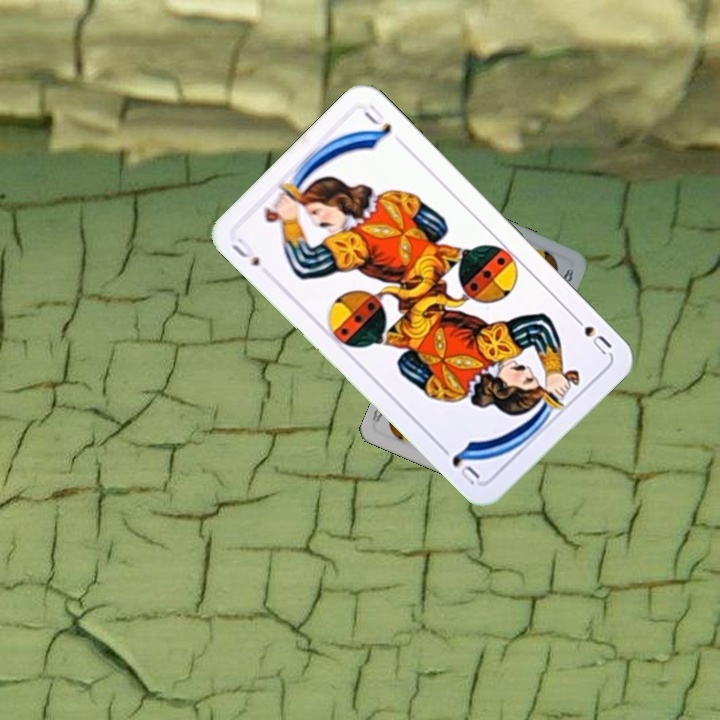SU: (567, 310, 615, 358), (227, 233, 263, 269)
